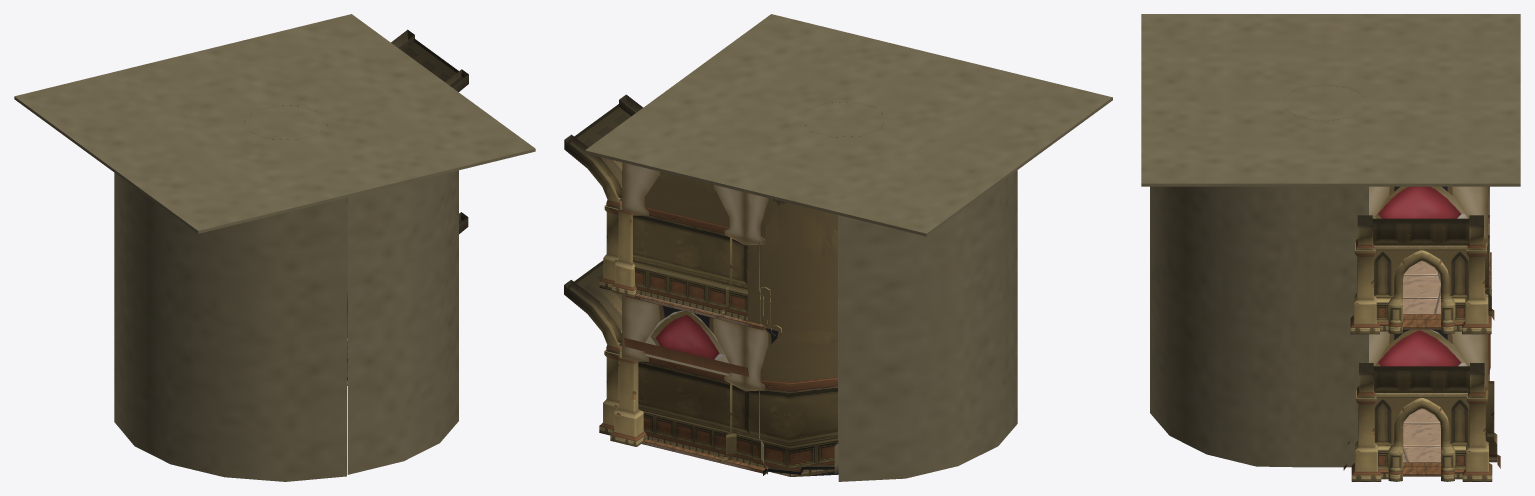
The model's file is stairs.FBX.
The picture shows the model from 3 angles, left to right: view 1: azimuth 30°, elevation 25°; view 2: azimuth 150°, elevation 25°; view 3: azimuth 270°, elevation 25°; orthographic projection. The views are drawn at different scales.
Parts seen in each view (by area): view 1: stairs; view 2: stairs; view 3: stairs.
Part boxes in pixels (x1=…): stairs: x1=14, y1=14, x2=535, y2=481; stairs: x1=564, y1=14, x2=1112, y2=481; stairs: x1=1141, y1=14, x2=1520, y2=481.
Size of the model in its own units: 2015 by 1575 by 1710.
